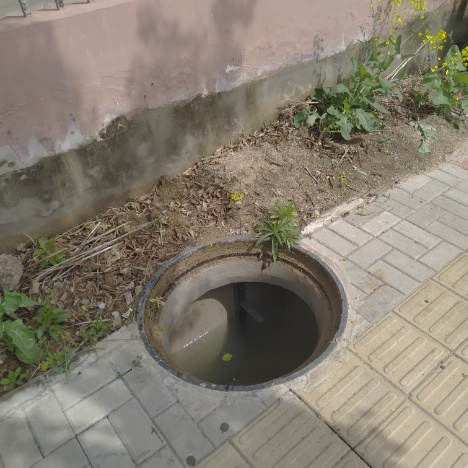lose: (137, 234, 348, 390)
